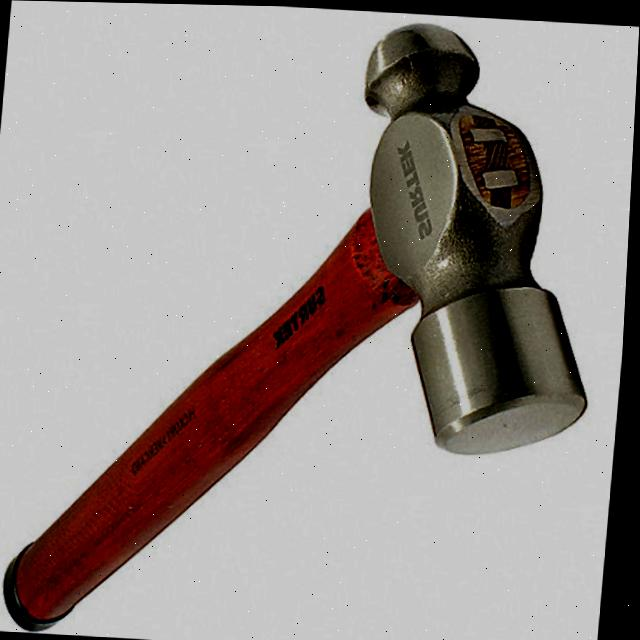hammer: (0, 0, 628, 640)
